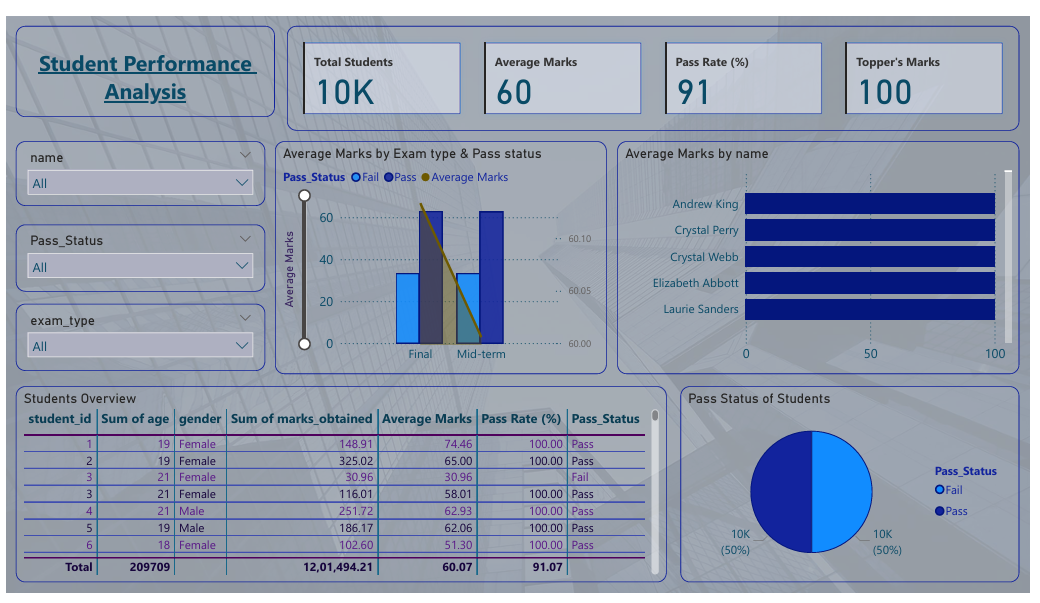

This screenshot's page, from the dashboard's own definition file:
{"tool":"powerbi","page":{"name":"Student","canvas":[1280,720],"ordinal":3},"visuals":[{"type":"textbox","box":[11.8,11.8,324.2,114.2],"z":0},{"type":"cardVisual","fields":{"Data":["students.Total Students","marks.Average Marks","marks.Pass Rate (%)","marks.Topper's Marks"]},"box":[351.1,11.8,915.5,131],"z":1},{"type":"barChart","fields":{"Y":["marks.Average Marks"],"Category":["students.name"]},"box":[764.3,156.2,502.3,290.6],"z":2},{"type":"pieChart","title":"Pass Status of Students","fields":{"Category":["marks.Pass_Status"],"Y":["Count(students.student_id)"]},"box":[843.3,461.9,423.3,245.2],"z":3},{"type":"lineClusteredColumnComboChart","title":"Average Marks by Exam type & Pass status","fields":{"Category":["exams.exam_type"],"Series":["marks.Pass_Status"],"Y":["marks.Average Marks"],"Y2":["marks.Average Marks"]},"box":[336,156.2,414.9,290.6],"z":4},{"type":"tableEx","title":"Students Overview","fields":{"Values":["students.student_id","Sum(students.age)","students.gender","Sum(marks.marks_obtained)","marks.Average Marks","marks.Pass Rate (%)","marks.Pass_Status"]},"box":[11.8,461.9,814.7,245.2],"z":5},{"type":"slicer","fields":{"Values":["students.name"]},"box":[11.8,156.2,312.4,80.6],"z":6},{"type":"slicer","fields":{"Values":["marks.Pass_Status"]},"box":[11.8,260.4,312.4,84],"z":7},{"type":"slicer","fields":{"Values":["exams.exam_type"]},"box":[11.8,359.5,312.4,84],"z":8}]}

Visuals, with their boxes in screenshot pixels (x1, y1, x2, y2), scaled from the page's 1280x720 canvas onto the 1040x603 screenshot:
textbox: crop(10, 10, 273, 106)
cardVisual - students.Total Students x marks.Average Marks: crop(285, 10, 1029, 120)
barChart - marks.Average Marks x students.name: crop(621, 131, 1029, 374)
"Pass Status of Students" pieChart: crop(685, 387, 1029, 592)
"Average Marks by Exam type & Pass status" lineClusteredColumnComboChart: crop(273, 131, 610, 374)
"Students Overview" tableEx: crop(10, 387, 672, 592)
slicer - students.name: crop(10, 131, 263, 198)
slicer - marks.Pass_Status: crop(10, 218, 263, 288)
slicer - exams.exam_type: crop(10, 301, 263, 371)
